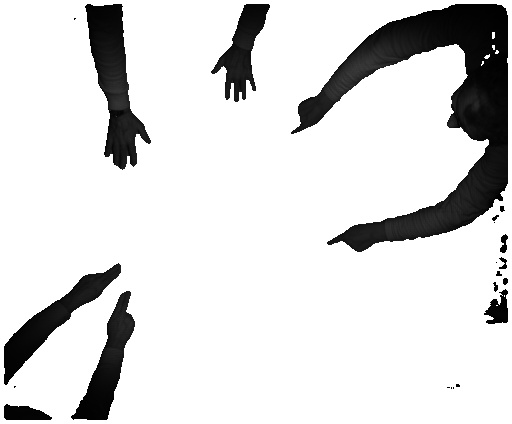hand: (65, 256, 123, 304), (104, 118, 151, 175), (208, 51, 255, 103), (320, 221, 378, 255), (288, 96, 330, 135), (108, 292, 135, 348)
